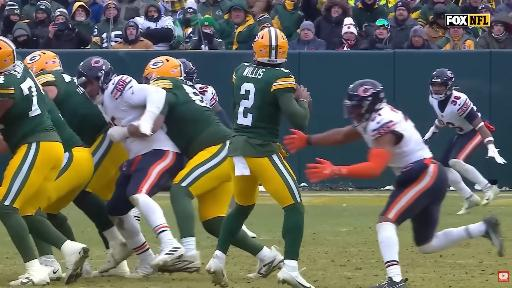Helmet: (344, 80, 386, 125), (76, 57, 116, 102), (253, 27, 288, 63), (143, 56, 183, 82), (24, 51, 62, 74), (430, 69, 454, 100), (0, 36, 16, 73), (178, 59, 197, 83)
Jersey: (150, 77, 232, 158), (230, 63, 295, 156), (0, 61, 60, 152), (36, 71, 108, 146), (356, 104, 432, 174), (102, 75, 165, 126), (45, 94, 83, 152), (430, 91, 480, 134), (195, 84, 218, 107)
Player: (284, 80, 503, 287), (206, 28, 312, 287), (77, 57, 184, 277), (0, 37, 88, 285), (24, 51, 131, 254), (144, 56, 232, 271), (424, 69, 506, 214), (41, 94, 93, 241), (179, 59, 232, 129)
